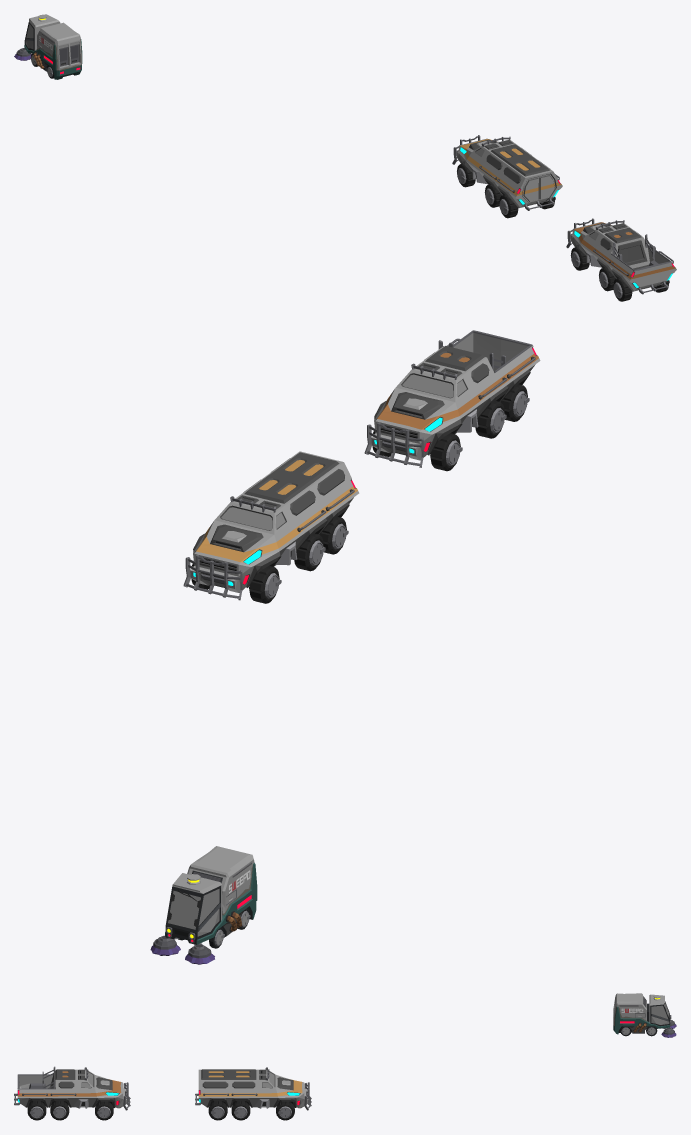
File: Vehicles.glb
3 renders of one model, top to bottom at view 1: azimuth 30°, elevation 25°; view 2: azimuth 150°, elevation 25°; view 3: azimuth 270°, elevation 25°, orthographic. The views are drawn at different scales.
Parts seen in each view (by area): view 1: SM_Veh_Armored_Truck_01, SM_Veh_Armored_Truck_02, SM_Veh_Sweepo_01__8_; view 2: SM_Veh_Armored_Truck_01, SM_Veh_Armored_Truck_02, SM_Veh_Sweepo_01__8_, SM_Veh_Sweepo_01_Glass; view 3: SM_Veh_Armored_Truck_01, SM_Veh_Armored_Truck_02, SM_Veh_Sweepo_01__8_, SM_Veh_Armored_Truck_01_Wheel_fr, SM_Veh_Armored_Truck_02_Wheel_fr, SM_Veh_Sweepo_01_Glass.
Part boxes in pixels (box(x1,y1,x2,y2)): SM_Veh_Armored_Truck_01: box(452, 135, 562, 218); SM_Veh_Armored_Truck_02: box(566, 218, 676, 301); SM_Veh_Sweepo_01__8_: box(21, 14, 82, 79); SM_Veh_Armored_Truck_01: box(183, 451, 359, 600); SM_Veh_Armored_Truck_02: box(364, 330, 540, 467); SM_Veh_Sweepo_01__8_: box(160, 846, 257, 949); SM_Veh_Sweepo_01_Glass: box(168, 888, 219, 936); SM_Veh_Armored_Truck_01: box(195, 1067, 311, 1120); SM_Veh_Armored_Truck_02: box(14, 1066, 130, 1120); SM_Veh_Sweepo_01__8_: box(613, 993, 671, 1034); SM_Veh_Armored_Truck_01_Wheel_fr: box(276, 1101, 294, 1120); SM_Veh_Armored_Truck_02_Wheel_fr: box(95, 1101, 113, 1120); SM_Veh_Sweepo_01_Glass: box(651, 1003, 669, 1024).
Size of the model in its own units: 14.08 by 2.68 by 40.11.
Materials: 2 (1 with a texture image).
